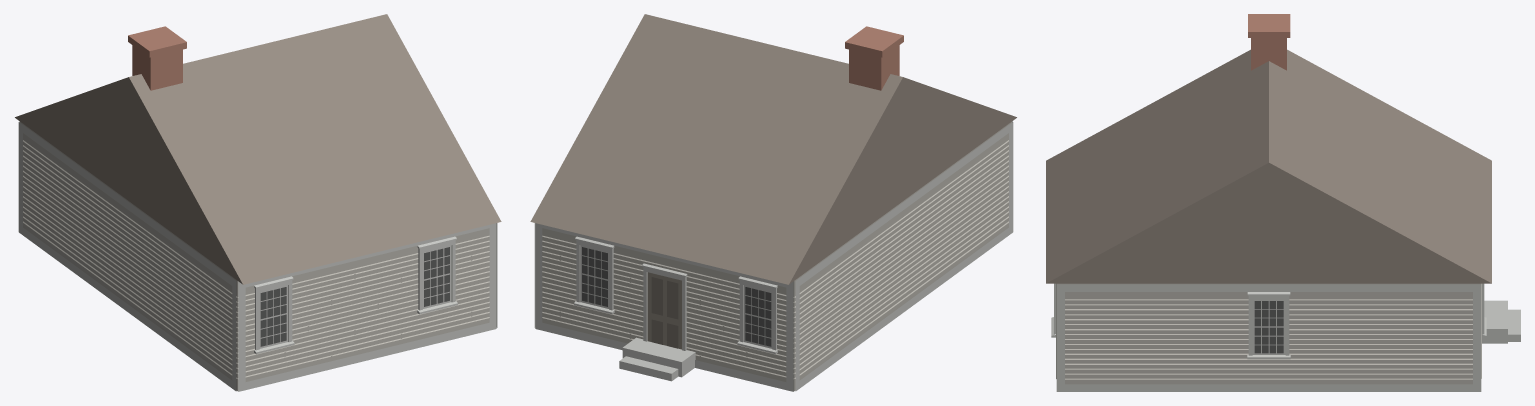
File: recon_1835_blk_south_water_lasalle_d5_01__inferred_1835.glb
The picture shows the model from 3 angles, left to right: view 1: azimuth 30°, elevation 25°; view 2: azimuth 150°, elevation 25°; view 3: azimuth 270°, elevation 25°; orthographic projection. The views are drawn at different scales.
Parts seen in each view (by area): view 1: recon_1835_blk_south_water_lasalle_d5_01__inferred_1835; view 2: recon_1835_blk_south_water_lasalle_d5_01__inferred_1835; view 3: recon_1835_blk_south_water_lasalle_d5_01__inferred_1835.
Part boxes in pixels (x1,y1,x2,y2): recon_1835_blk_south_water_lasalle_d5_01__inferred_1835: (15,14,501,391); recon_1835_blk_south_water_lasalle_d5_01__inferred_1835: (530,14,1016,391); recon_1835_blk_south_water_lasalle_d5_01__inferred_1835: (1046,14,1520,391).
Size of the model in its own units: 6.9 by 6.64 by 11.02.
